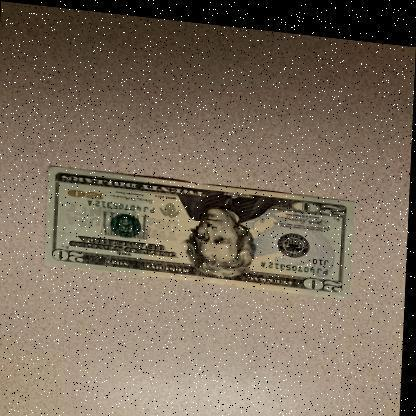twenty-front: (45, 162, 356, 289)
